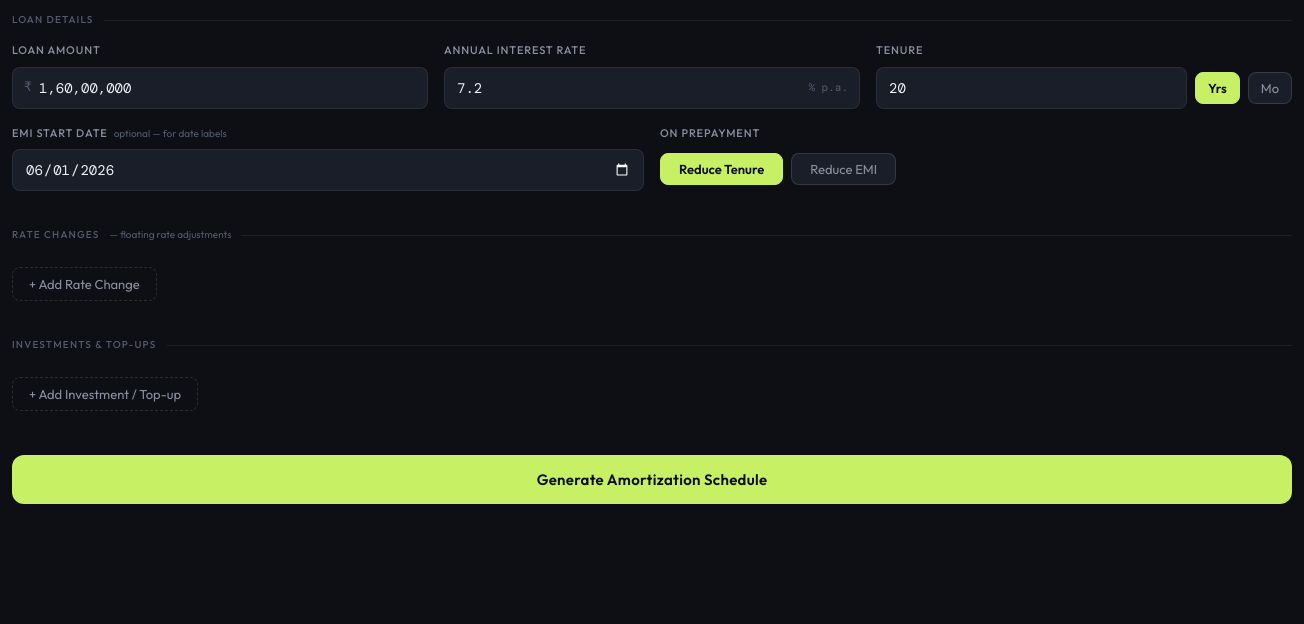
Test case: AmortizationPage — investment rows › adds an investment row when + Add Investment / Top-up is clicked
Click the button "+ Add Investment / Top-up".
click(105, 394)  # box [12, 377, 198, 411]
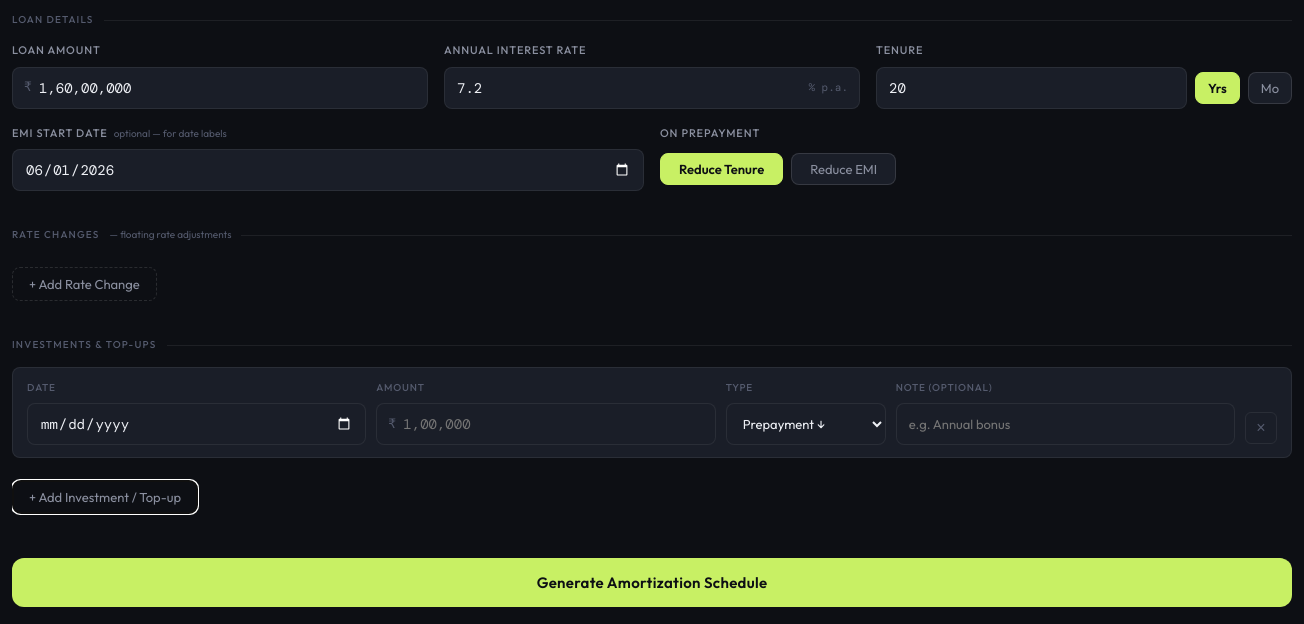
Expected: the number of buttons titled "Remove" is 1, [1245, 412, 1277, 444]
